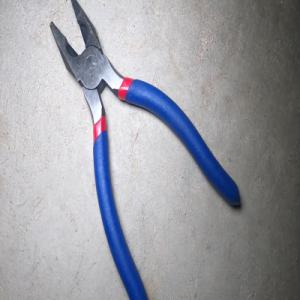Pliers: (49, 0, 241, 300)
